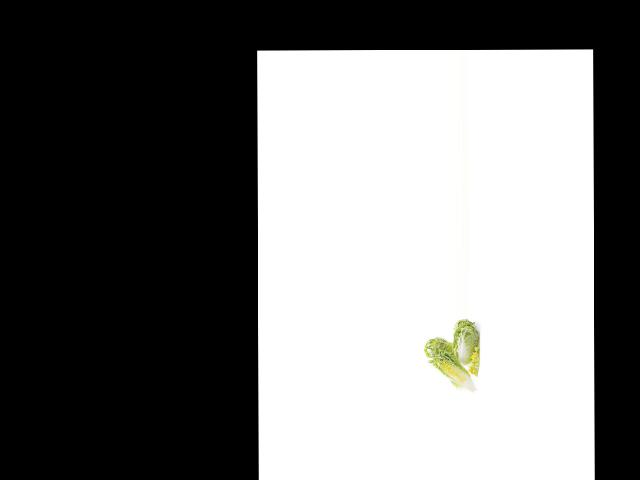lettuce: (451, 320, 481, 370)
